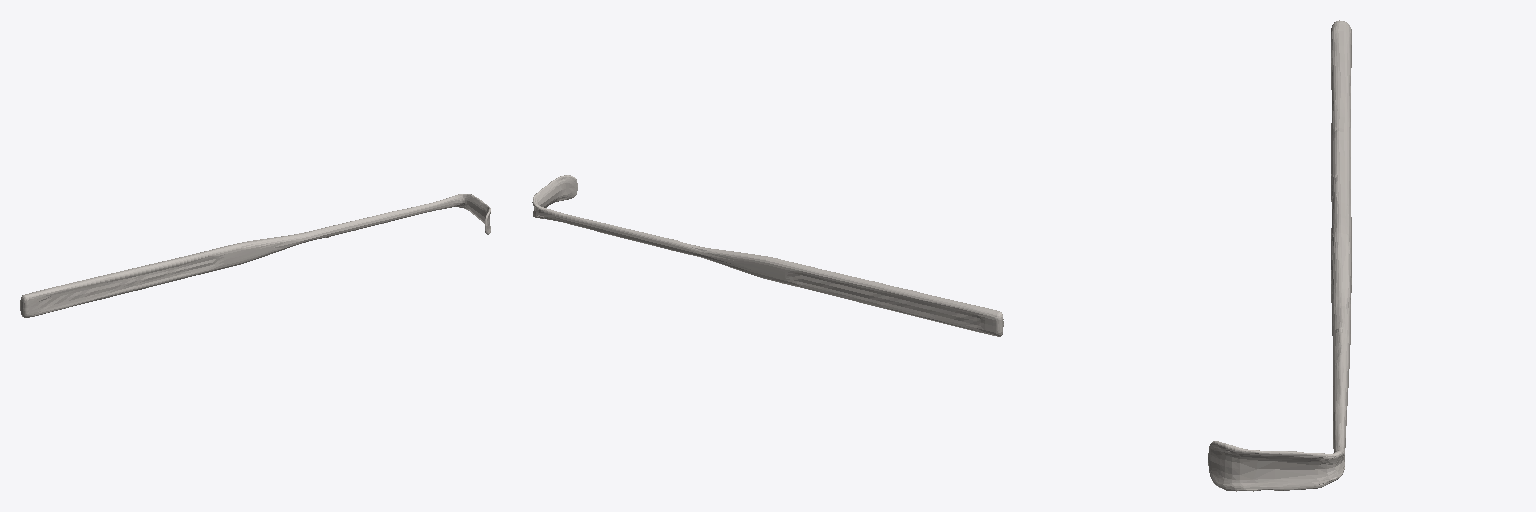
The robot description file, URDF, robot "Tooling_20":
<?xml version="1.0" encoding="utf-8"?>
<!-- This URDF was automatically created by SolidWorks to URDF Exporter! Originally created by Stephen Brawner (brawner@gmail.com)
     Commit Version: 1.6.0-4-g7f85cfe  Build Version: 1.6.7995.38578
     For more information, please see http://wiki.ros.org/sw_urdf_exporter -->
<robot
  name="Tooling_20">
  <link
    name="base_link">
    <inertial>
      <origin
        xyz="5.258E-05 1.123E-07 0.00062485"
        rpy="0 0 0" />
      <mass
        value="0.016633" />
      <inertia
        ixx="1.8093E-07"
        ixy="-7.5498E-11"
        ixz="-8.5074E-07"
        iyy="2.9671E-05"
        iyz="-2.1778E-11"
        izz="2.9592E-05" />
    </inertial>
    <visual>
      <origin
        xyz="0 0 0"
        rpy="0 0 0" />
      <geometry>
        <mesh
          filename="../meshes/base_link.STL" />
      </geometry>
      <material
        name="">
        <color
          rgba="0.77647 0.75686 0.73725 1" />
      </material>
    </visual>
    <collision>
      <origin
        xyz="0 0 0"
        rpy="0 0 0" />
      <geometry>
        <mesh
          filename="../meshes/base_link.STL" />
      </geometry>
    </collision>
  </link>
</robot>

--- Facts derived from the render (not from the file) ---
Views: 3 orthographic renders of the robot side by side, from view 1: azimuth 30°, elevation 25°; view 2: azimuth 150°, elevation 25°; view 3: azimuth 270°, elevation 25°.
Model Tooling_20 with 1 links and 0 joints (none), rooted at base_link, posed every joint at zero.
Links seen in each view (by area): view 1: base_link; view 2: base_link; view 3: base_link.
Boxes of the visible links, x1,y1,x2,y2 form: base_link: [20, 194, 490, 317]; base_link: [532, 175, 1003, 336]; base_link: [1208, 20, 1351, 491].
Bounding box of the posed robot: 0.1526 × 0.0215 × 0.0076 m (x, y, z).
Meshes: 1 distinct files referenced, 1 mesh visuals loaded (1 binary STL).
